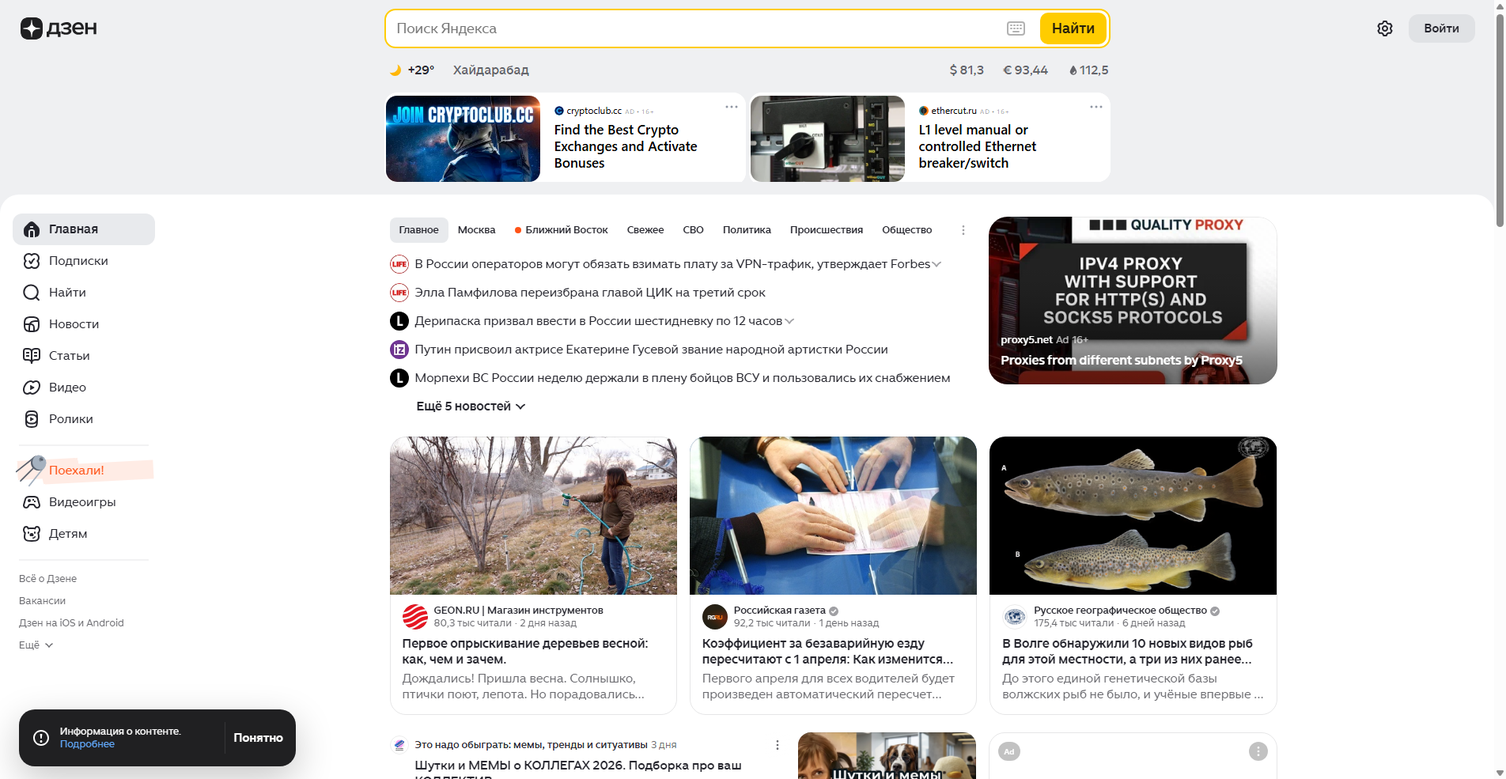button: (384, 9, 1110, 48), (505, 218, 618, 243), (781, 218, 873, 243), (1040, 13, 1106, 44), (1065, 218, 1144, 243), (1408, 14, 1475, 43), (1429, 218, 1506, 243), (1304, 218, 1380, 243), (224, 722, 283, 754), (942, 218, 1016, 243), (416, 399, 529, 415), (873, 218, 942, 243), (713, 218, 781, 243), (697, 733, 762, 758), (1240, 218, 1304, 243), (390, 218, 448, 243), (448, 218, 505, 243), (618, 218, 673, 243), (1186, 218, 1240, 243), (1367, 11, 1402, 46), (1016, 218, 1065, 243), (1380, 218, 1429, 243), (453, 62, 529, 78), (515, 224, 608, 236), (1144, 218, 1186, 243), (673, 218, 713, 243), (648, 601, 677, 633), (948, 601, 977, 633), (1249, 601, 1277, 633), (790, 224, 863, 236), (1439, 224, 1506, 236), (1074, 224, 1134, 236), (1313, 224, 1371, 236), (951, 224, 1006, 236), (950, 218, 976, 243), (764, 733, 790, 758), (882, 224, 932, 236), (723, 224, 771, 236), (1249, 224, 1294, 236), (1424, 21, 1459, 36), (399, 224, 439, 236), (629, 605, 648, 630), (1230, 605, 1249, 630), (19, 639, 55, 652), (458, 224, 496, 236), (930, 605, 948, 630), (627, 224, 664, 236), (1195, 224, 1230, 236), (1025, 224, 1055, 236), (1390, 224, 1420, 236), (1153, 224, 1176, 236), (563, 609, 579, 625), (863, 609, 879, 625), (1163, 609, 1179, 625), (683, 224, 704, 236), (929, 257, 945, 272), (781, 314, 797, 329), (957, 224, 969, 237)
clickable: (13, 455, 155, 487)
icon: (39, 639, 55, 652)
link: (390, 437, 677, 715), (690, 437, 977, 715), (990, 437, 1277, 715), (388, 255, 976, 274), (388, 299, 976, 318), (388, 312, 976, 331), (388, 356, 976, 375), (388, 340, 976, 359), (388, 284, 976, 302), (402, 636, 664, 668), (702, 636, 964, 668), (1002, 636, 1264, 668), (798, 733, 976, 779), (415, 758, 783, 779), (390, 736, 648, 755), (13, 214, 155, 246), (13, 277, 155, 309), (13, 340, 155, 372), (13, 372, 155, 404), (13, 455, 155, 487), (13, 518, 155, 550), (13, 246, 155, 277), (13, 309, 155, 340), (13, 404, 155, 435), (13, 487, 155, 518), (1034, 605, 1220, 617), (434, 605, 603, 617), (997, 10, 1033, 47), (734, 605, 839, 617), (386, 61, 434, 80), (19, 573, 77, 586), (1003, 62, 1048, 78), (1067, 62, 1109, 78), (402, 605, 428, 630), (702, 605, 728, 630), (1002, 605, 1028, 630), (19, 595, 66, 608), (950, 62, 984, 78), (21, 17, 43, 40)
